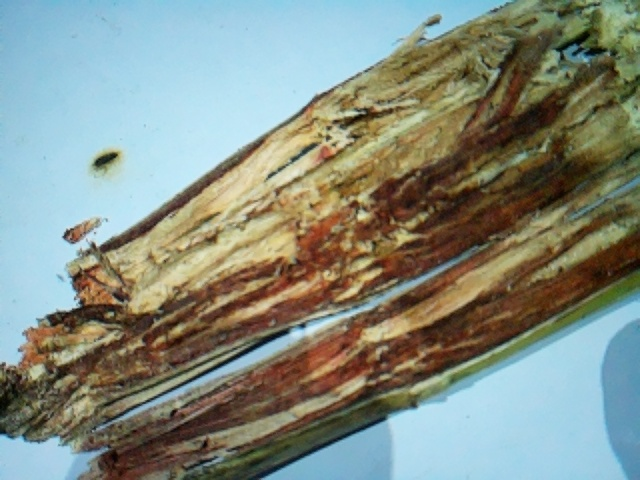Red-Rot: (50, 26, 636, 449)
